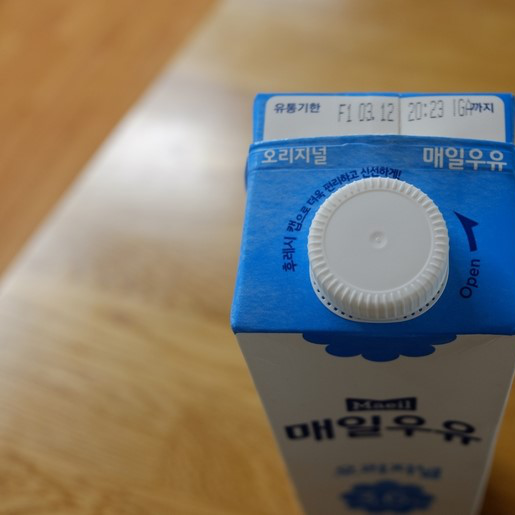milk: (231, 90, 514, 515)
